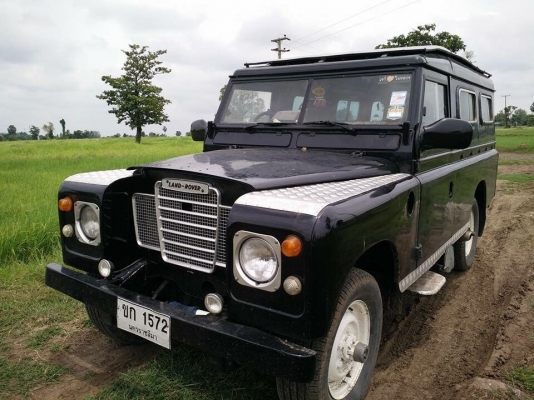pickup: (44, 44, 497, 400)
